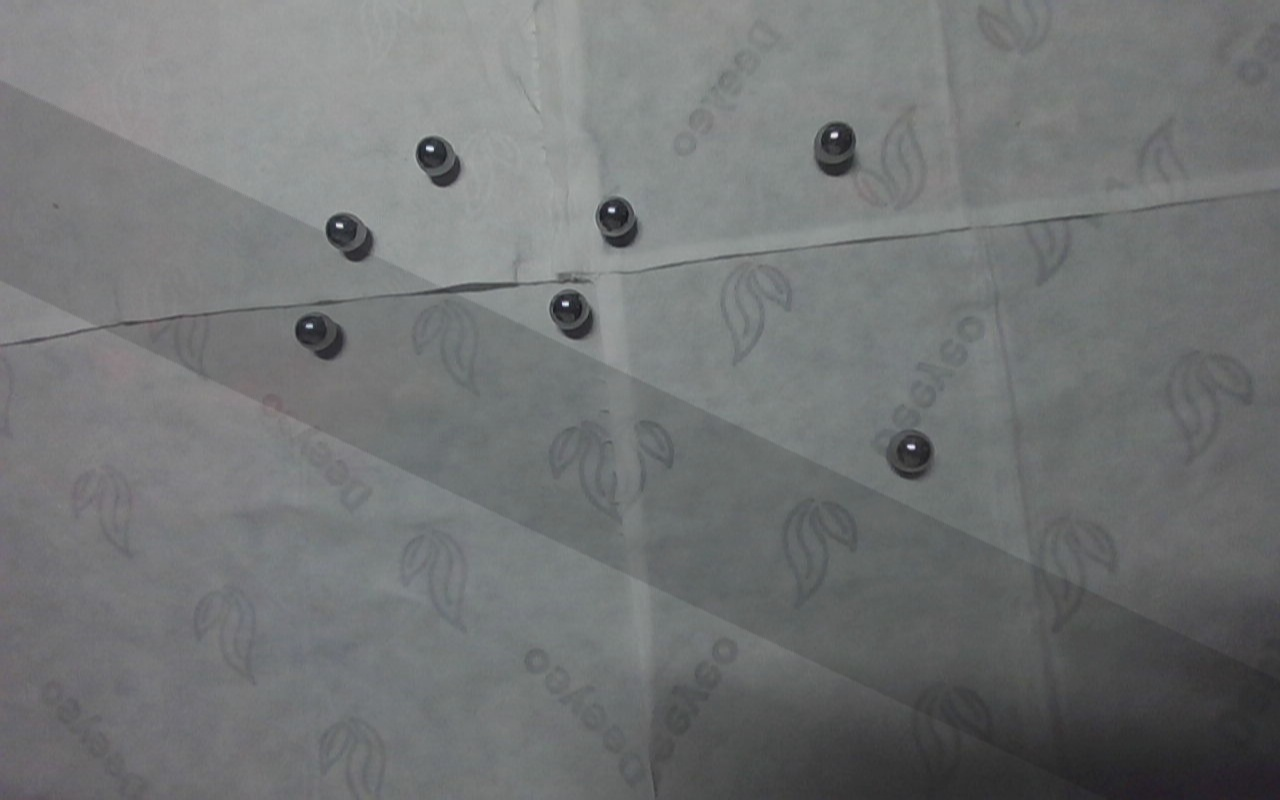ball: (885, 424, 940, 480), (323, 209, 377, 260), (592, 191, 642, 244), (292, 310, 345, 358), (812, 120, 862, 170), (546, 287, 595, 334), (412, 132, 458, 182)
